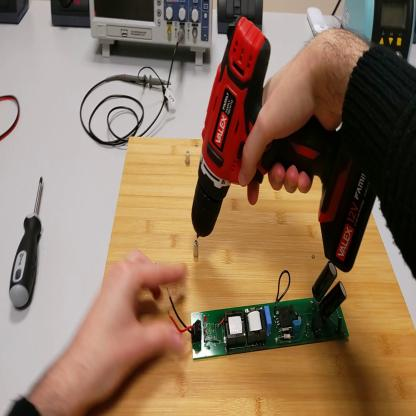electric screwdriver: (193, 18, 378, 279)
hand: (236, 38, 347, 201), (73, 249, 190, 400)
high voltage board: (168, 261, 351, 360)
oscilloscope: (93, 1, 213, 65)
oscilloscope probe tip: (117, 69, 172, 92)
screwdriver-: (9, 175, 43, 312)
socket: (51, 1, 92, 31), (1, 1, 31, 26)
welder station: (341, 2, 416, 66)
working area: (90, 137, 416, 416)
